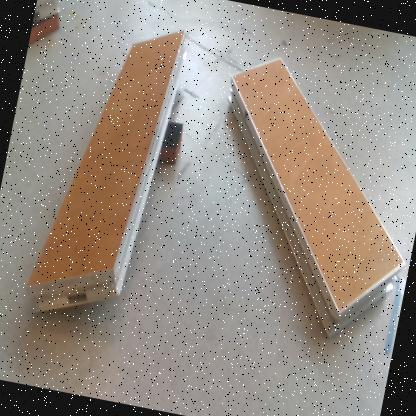Stairs: (229, 58, 406, 343), (26, 30, 188, 320), (33, 1, 60, 27)
